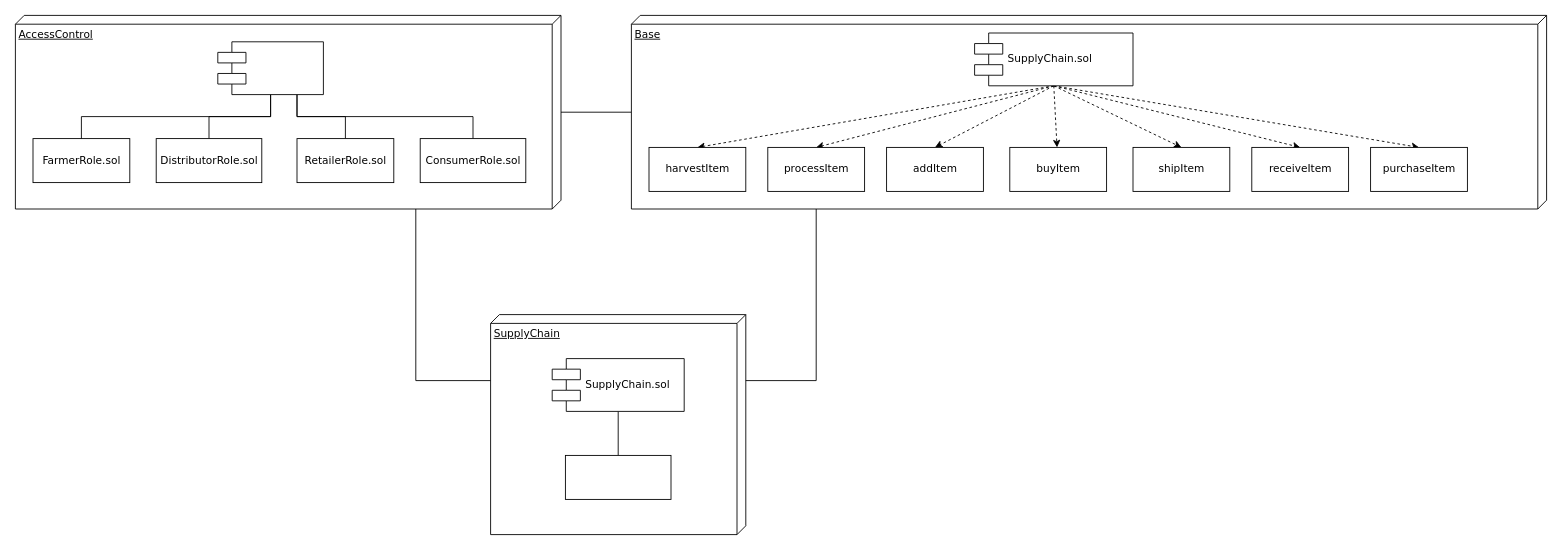
This 1562x550 diagram has some shape labels left out. Here are the shapes that lost their labels. From the top down, the centre of each, then its label:
At (270,68): "Roles.sol".
At (618,477): "Ownable.sol".
